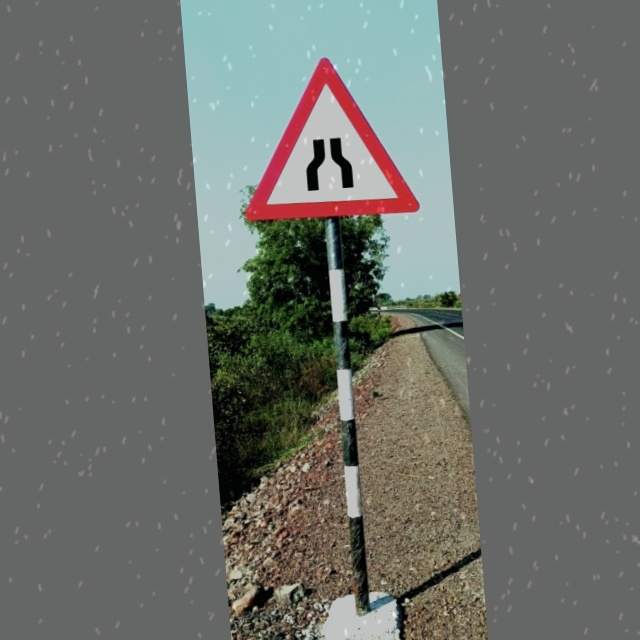Narrow_Road_Ahead: (237, 54, 422, 227)
